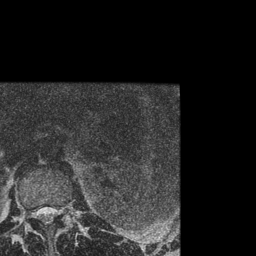CCS_normal: (42, 197, 50, 233)
LFS_normal: (56, 196, 64, 224)
LLS_normal: (50, 198, 57, 227)
RFS_normal: (28, 200, 35, 225)
RLS_normal: (35, 201, 43, 227)
